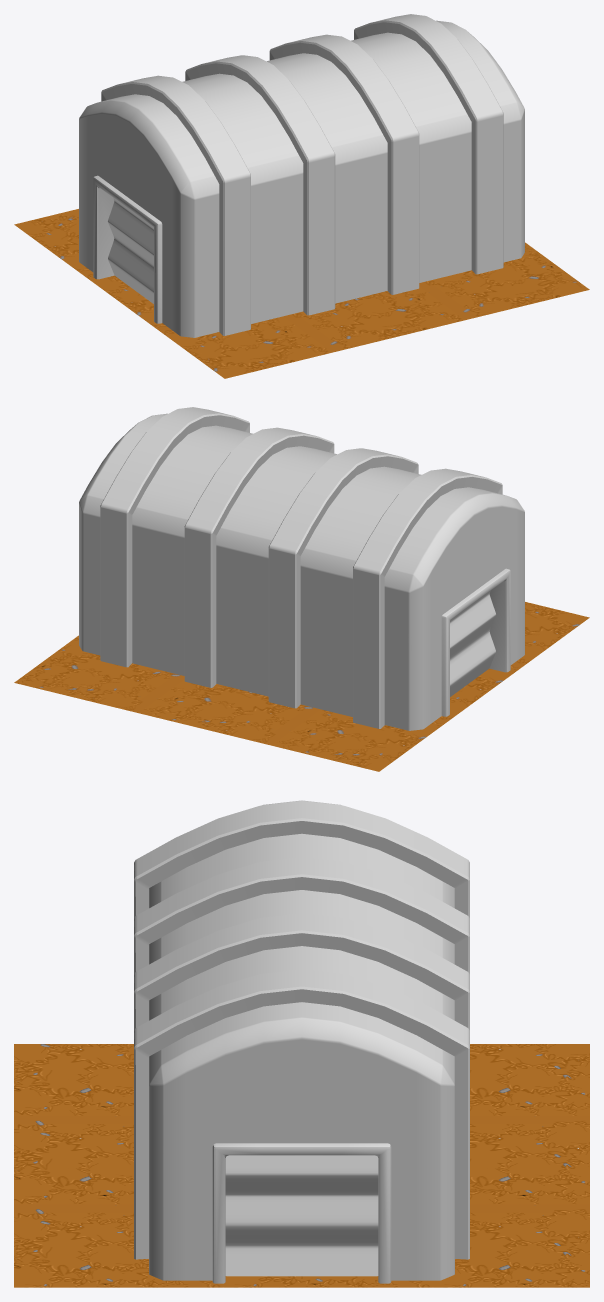
The model's file is BaseOutside.fbx.
3 views of the same model, one above another, from view 1: azimuth 30°, elevation 25°; view 2: azimuth 150°, elevation 25°; view 3: azimuth 270°, elevation 25° (orthographic). The views are drawn at different scales.
Visible parts, largest first — view 1: Cube, FlatPlane.003; view 2: Cube, FlatPlane.003; view 3: Cube, FlatPlane.003.
Boxes of the visible parts, <box> form: Cube: <box>79,14,524,337</box>; FlatPlane.003: <box>14,209,589,378</box>; Cube: <box>79,407,524,730</box>; FlatPlane.003: <box>14,602,589,771</box>; Cube: <box>134,800,469,1283</box>; FlatPlane.003: <box>14,1044,589,1287</box>.
Size of the model in its own units: 1562 by 815 by 1562.
